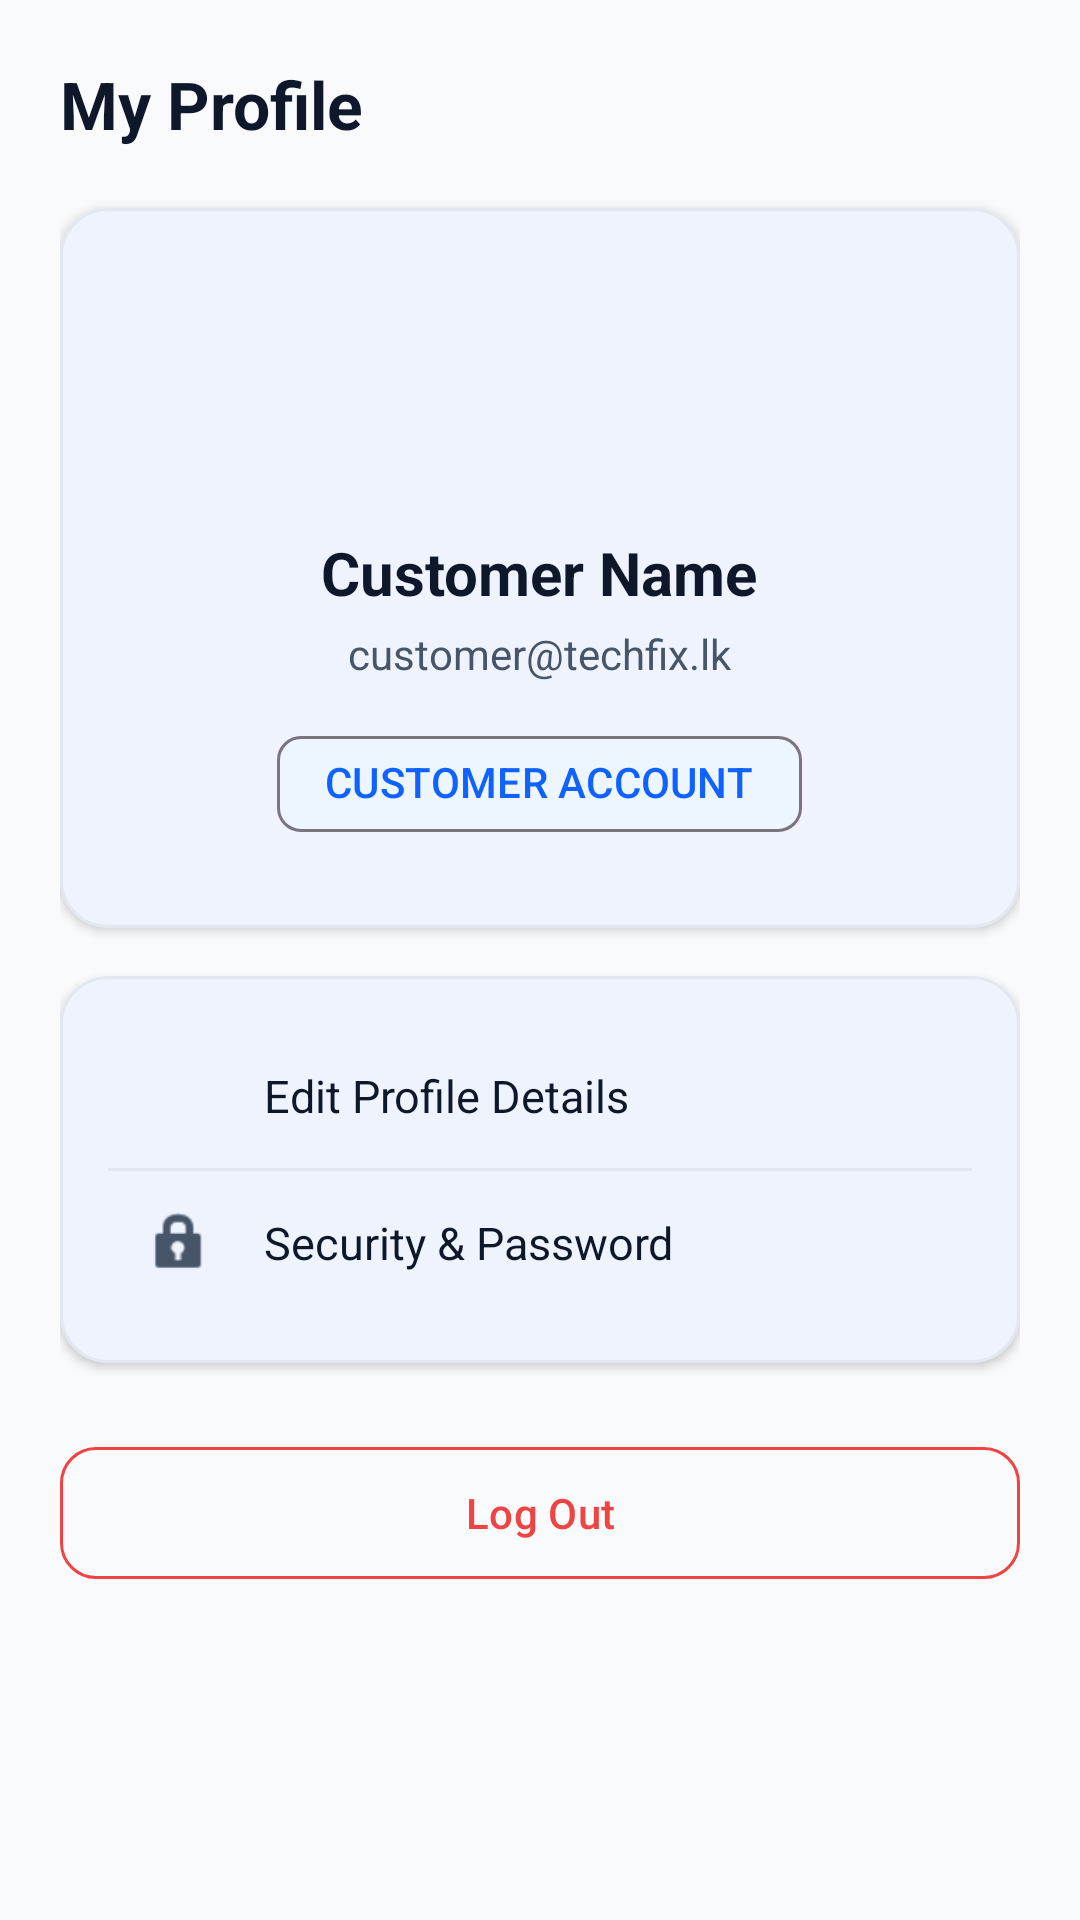

Icon bounding boxes for this 1080×1920 phone screenshot, format bbox=[x1, y1, x2, y2]:
lock idle: bbox=[155, 1213, 202, 1268]
